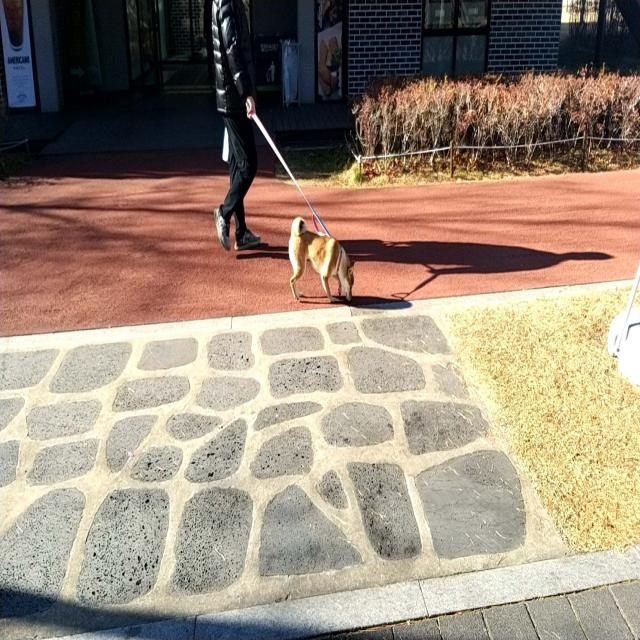Leashed_Dog: (239, 94, 355, 304)
